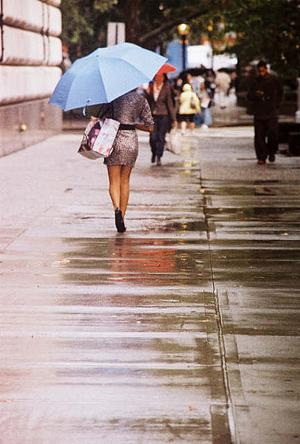person: (99, 88, 154, 233)
